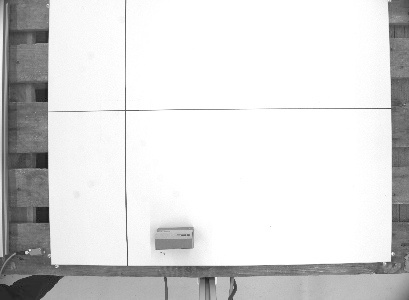b3: (151, 224, 195, 251)
